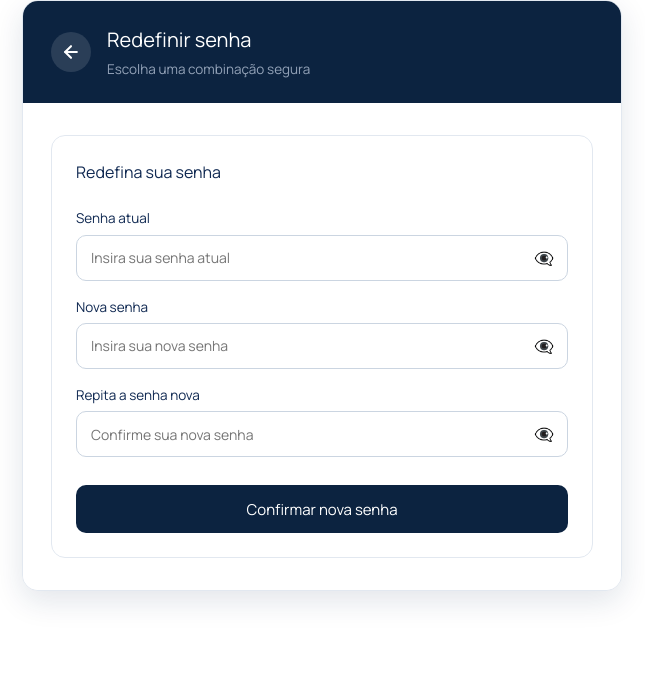
Test: ResetPasswordModal › exibe erro se a nova senha e a confirmação não coincidirem
Type "antiga123" into the password field with placeholder "Insira sua senha atual" at (322, 258), box [76,234,568,280]
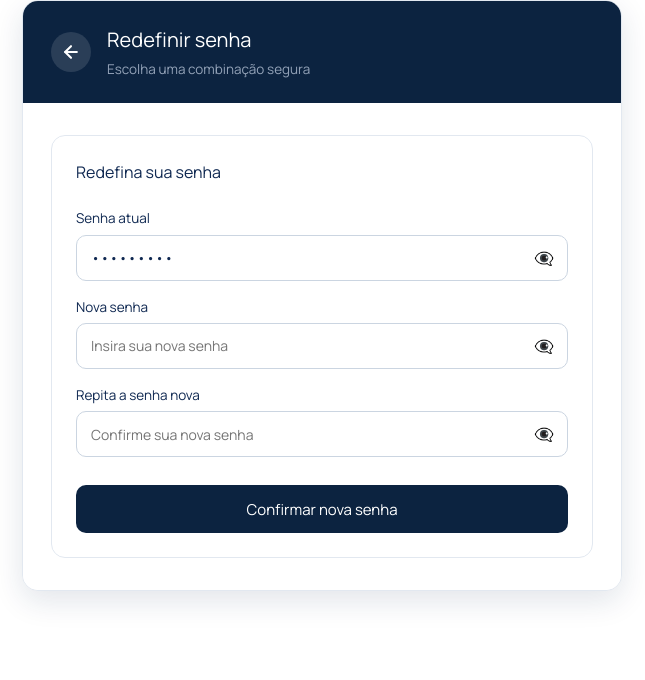
Type "nova12345" into the password field with placeholder "Insira sua nova senha" at (322, 346), box [76,323,568,369]
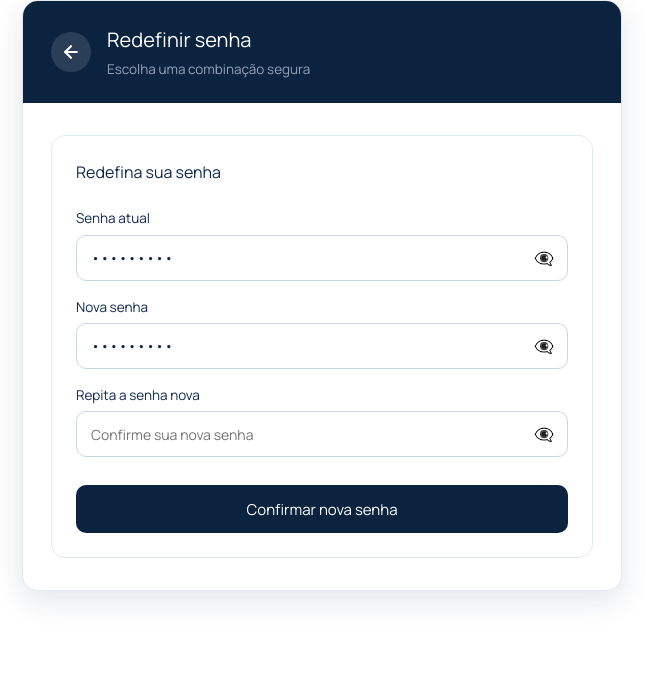
Type "diferente123" into the password field with placeholder "Confirme sua nova senha" at (322, 434), box [76,411,568,457]
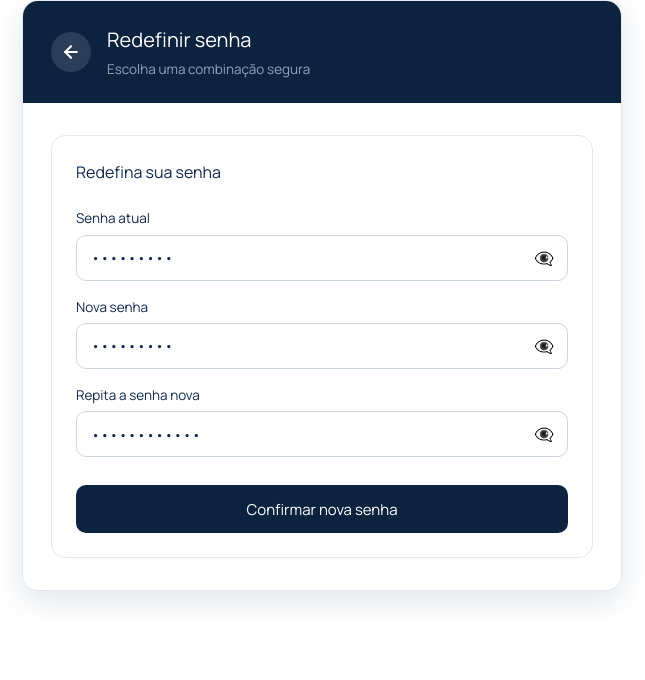
Click the button "Confirmar nova senha" at (322, 509), box [76,485,568,533]
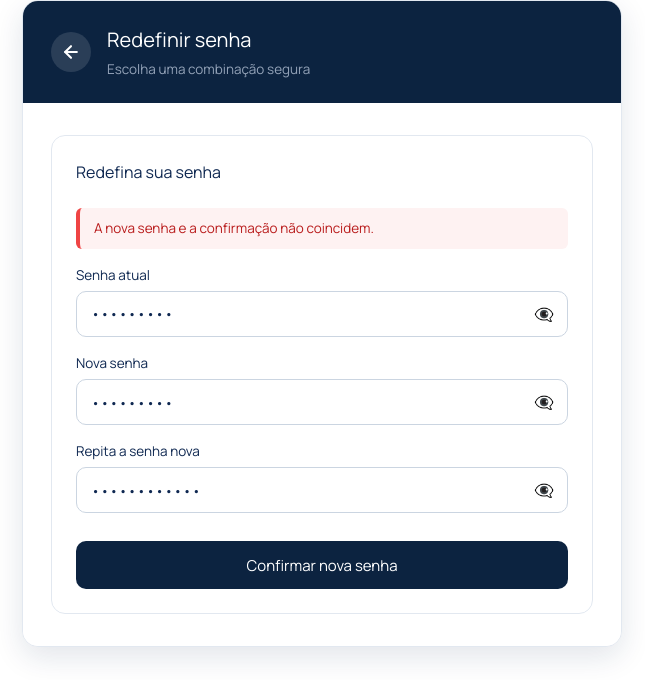
expect the text "A nova senha e a confirmação não coincidem." is shown: met, box [76,208,568,249]
